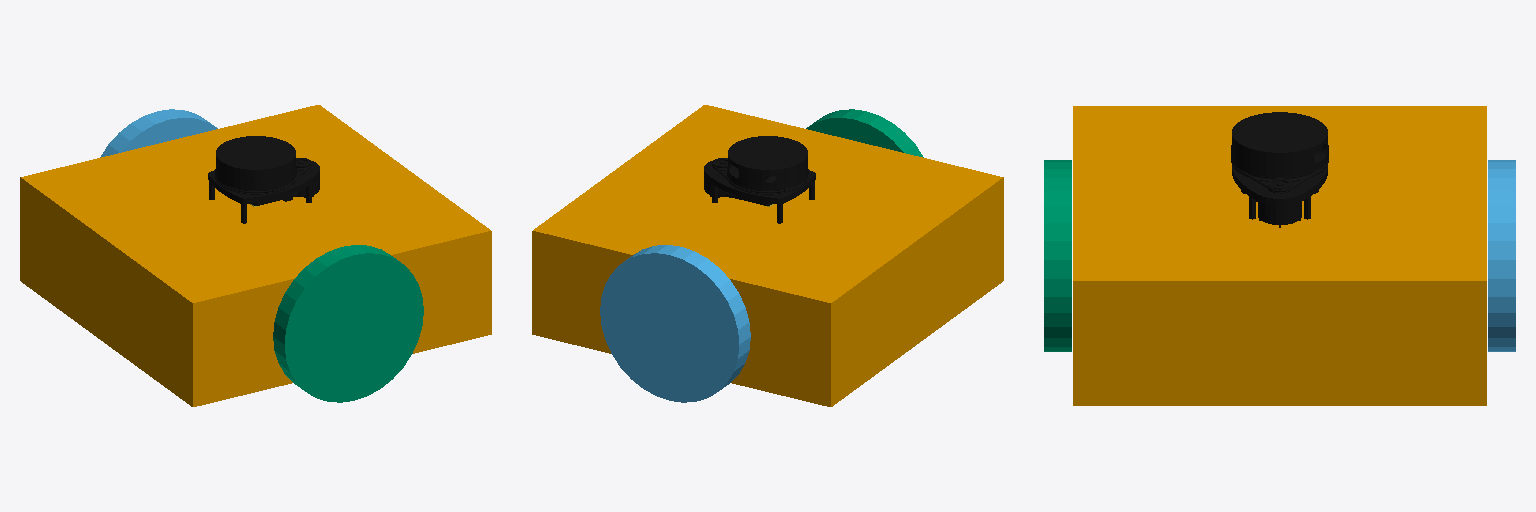
robot.urdf — mobile_robot:
<?xml version="1.0" ?>

<robot name="mobile_robot" xmlns:xacro="http://ros.org/wiki/xacro">
    
    <link name="base_link">
        
        <inertial>
            <origin xyz="0.0 0.0 0.0" rpy="0.0 0.0 0.0"/>
            <mass value="0.2"/>
            <inertia ixx="0.00167" ixy="0.0" ixz="0.0" iyy="0.00167" iyz="0.0" izz="0.003"/>
        </inertial>
        
        <visual>
            <origin xyz="0.0 0.0 0.0" rpy="0.0 0.0 0.0"/>
            <geometry>
                <box size="0.3 0.3 0.1"/>
            </geometry>
        </visual>
        
        <collision>
            <origin xyz="0.0 0.0 0.0" rpy="0.0 0.0 0.0"/>
            <geometry>
                <box size="0.3 0.3 0.1"/>
            </geometry>
        </collision>
        
    </link>

    <joint name="base_2_left_wheel" type="continuous">
        <origin xyz="0.0 0.161 0.0" rpy="0.0 0.0 0.0"/>
        <parent link="base_link"/>
        <child link="left_wheel"/>
        <axis xyz="0.0 1.0 0.0"/>
    </joint>
    
    <link name="left_wheel">
        
        <inertial>
            <origin xyz="0.0 0.0 0.0" rpy="1.5708 0.0 0.0"/>
            <mass value="0.01"/>
            <inertia ixx="0.00001258" ixy="0.0" ixz="0.0" iyy="0.00001258" iyz="0.0" izz="0.0000245"/>
        </inertial>
        
        <visual name="">
            <origin xyz="0.0 0.0 0.0" rpy="1.5708 0.0 0.0"/>
            <geometry>
                <cylinder radius="0.07" length="0.02"/> 
            </geometry>
        </visual>
        
        <collision>
            <origin xyz="0.0 0.0 0.0" rpy="1.5708 0.0 0.0"/>
            <geometry>
                <cylinder radius="0.07" length="0.02"/>
            </geometry>
        </collision>

    </link>

    <joint name="base_2_right_wheel" type="continuous">
        <origin xyz="0.0 -0.161 0.0" rpy="0.0 0.0 0.0"/>
        <parent link="base_link"/>
        <child link="right_wheel"/>
        <axis xyz="0.0 1.0 0.0"/>
    </joint>
    
    <link name="right_wheel">
        
        <inertial>
            <origin xyz="0.0 0.0 0.0" rpy="1.5708 0.0 0.0"/>
            <mass value="0.01"/>
            <inertia ixx="0.00001258" ixy="0.0" ixz="0.0" iyy="0.00001258" iyz="0.0" izz="0.0000245"/>
        </inertial>
        
        <visual name="">
            <origin xyz="0.0 0.0 0.0" rpy="1.5708 0.0 0.0"/>
            <geometry>
                <cylinder radius="0.07" length="0.02"/> 
            </geometry>
        </visual>
        
        <collision>
            <origin xyz="0.0 0.0 0.0" rpy="1.5708 0.0 0.0"/>
            <geometry>
                <cylinder radius="0.07" length="0.02"/>
            </geometry>
        </collision>

    </link>

<!-- Odomtery and differential -->

    <gazebo>
        <plugin name="differential_drive_controller" filename="libgazebo_ros_diff_drive.so">
            <updateRate>100</updateRate>
            <leftJoint>base_2_left_wheel</leftJoint>
            <rightJoint>base_2_right_wheel</rightJoint>
            <wheelSeparation>0.322</wheelSeparation>
            <wheelDiameter>0.14</wheelDiameter>
            <wheelAcceleration>1.0</wheelAcceleration>
            <wheelTorque>20</wheelTorque>
            <commandTopic>mobile_robot/cmd_vel</commandTopic>
            <odometryTopic>mobile_robot/odom</odometryTopic>
            <odometryFrame>odom</odometryFrame>
            <robotBaseFrame>base_link</robotBaseFrame>
            <odometrySource>1</odometrySource>
            <publishWheelTF>true</publishWheelTF>
            <publishOdom>true</publishOdom>
            <publishWheelJointState>true</publishWheelJointState>
            <legacyMode>false</legacyMode>
        </plugin>
    </gazebo>

<!-- IMU -->

    <link name="imu_link">
        
        <inertial>
            <mass value="0.0"/>
            <inertia ixx="0.0" ixy="0.0" ixz="0.0" iyy="0.0" iyz="0.0" izz="0.0"/>
        </inertial>
        
        <visual>
            <origin xyz="0.0 0.0 0.0" rpy="0.0 0.0 0.0"/>
            <geometry>
                <box size="0.01 0.01 0.01"/>
            </geometry>
        </visual>

        <collision>
            <origin xyz="0.0 0.0 0.0" rpy="0.0 0.0 0.0"/>
            <geometry>
                <box size="0.01 0.01 0.01"/>
            </geometry>
        </collision>

    </link>

    <joint name="base_link_2_imu" type="fixed">
        <origin xyz="0.0 0.0 0.05" rpy="0.0 0.0 0.0"/>
        <parent link="base_link"/>
        <child link="imu_link"/>
    </joint>

    <gazebo reference="imu_link">
        <gravity>true</gravity>
        <sensor name="imu_sensor" type="imu">
            <always_on>true</always_on>
            <update_rate>100</update_rate>
            <visualize>true</visualize>
            <topic>__default_topic__</topic>
            <plugin filename="libgazebo_ros_imu_sensor.so" name="imu_plugin">
                <topicName>mobile_robot/imu</topicName>
                <bodyName>imu_link</bodyName>
                <updateRateHZ>10.0</updateRateHZ>
                <gaussianNoise>0.0</gaussianNoise>
                <xyzOffset>0 0 0</xyzOffset>
                <rpyOffset>0 0 0</rpyOffset>
                <frameName>imu_link</frameName>
                <initialOrientationAsReference>false</initialOrientationAsReference>
            </plugin>
            <pose>0 0 0 0 0 0</pose>
        </sensor>
    </gazebo>

<!-- Laser scanner -->

    <link name="laser_scan_link">
        <inertial>
            <mass value="0.17"/>
            <inertia ixx="0.0001926" ixy="0.0" ixz="0.0" iyy="0.000122" iyz="0.0" izz="0.0002129"/>
        </inertial>
        <visual>
            <geometry>
                <mesh filename="package://robot_models_description/meshes/rplidar.dae"/>
            </geometry>
        </visual>
        <collision>
            <geometry>
                <box size="0.071 0.1 0.06"/>
            </geometry>
        </collision>
    </link>

    <joint name="base_link_2_laser_scan" type="fixed">
        <origin xyz="0.0 0.0 0.09" rpy="0.0 0.0 0.0"/>
        <parent link="base_link"/>
        <child link="laser_scan_link"/>
    </joint>

    <gazebo reference="laser_scan_link">
        <sensor type="ray" name="head_hokuyo_sensor">
            <update_rate>62</update_rate>
            <visualize>false</visualize>
            <ray>
                <scan>
                    <horizontal>
                        <samples>640</samples>
                        <resolution>1</resolution>
                        <min_angle>-3.1415926535897931</min_angle>
                        <max_angle>3.1415926535897931</max_angle>
                    </horizontal>
                </scan>
                <range>
                    <min>0.164</min>
                    <max>12</max>
                    <resolution>0.01</resolution>
                </range>
                <noise>
                    <type>gaussian</type>
                    <mean>0.0</mean>
                    <stddev>0.01</stddev>
                </noise>
            </ray>

            <plugin name="gazebo_ros_head_hokuyo_controller" filename="libgazebo_ros_laser.so">
                <topicName>/mobile_robot/lase_scan</topicName>
                <frameName>laser_scan_link</frameName>
                <min_range>0.164</min_range>
                <max_range>12</max_range>
                <gaussianNoise>0.008</gaussianNoise>
            </plugin>

        </sensor>
    </gazebo> 
    
<!-- Depth Camera -->
    <link name="camera_oakd_link">
        <inertial>
            <mass value="0.061"/>
            <inertia ixx="0.00000202475" ixy="0.0" ixz="0.0"
	             iyy="0.00001527320" iyz="0.0" izz="0.00001605536"/>
        </inertial>
        <visual>
            <geometry>
                <mesh filename="package://robot_models_description/meshes/oak_d_camera.dae"/>
            </geometry>
        </visual>
        <collision>
            <geometry>
                <box size="0.0225 0.097 0.03"/>
            </geometry>
        </collision>
    </link>

    <joint name="base_link_2_camera" type="fixed">
        <origin xyz="0.0 0.0 0.15" rpy="0.0 0.0 0.0"/>
        <parent link="base_link"/>
        <child link="camera_oakd_link"/>
    </joint>

    <gazebo reference="camera_oakd_link">
        <sensor name="depth_kinect_camera" type="depth">
            <update_rate>20</update_rate>
            <camera>
                <horizontal_fov>1.047198</horizontal_fov>
                <image>
                    <width>640</width>
                    <height>480</height>
                    <format>R8G8B8</format>
                </image>
                <clip>
                    <near>0.05</near>
                    <far>3</far>
                </clip>
            </camera>

            <plugin name="depth_camera_controller" filename="libgazebo_ros_openni_kinect.so">
                <baseline>0.2</baseline>
                <alwaysOn>true</alwaysOn>
                <updateRate>1.0</updateRate>
                <cameraName>depth_kinect_camera</cameraName>
                <imageTopicName>/mobile_robot/color/image_raw</imageTopicName>
                <cameraInfoTopicName>/mobile_robot/color/camera_info</cameraInfoTopicName>
                <depthImageTopicName>/mobile_robot/depth/image_raw</depthImageTopicName>
                <depthImageInfoTopicName>/mobile_robot/depth/camera_info</depthImageInfoTopicName>
                <pointCloudTopicName>/mobile_robot/depth/points</pointCloudTopicName>
                <frameName>camera_oakd_link</frameName>
                <pointCloudCutoff>0.5</pointCloudCutoff>
                <pointCloudCutoffMax>3.0</pointCloudCutoffMax>
                <distortionK1>0.00000001</distortionK1>
                <distortionK2>0.00000001</distortionK2>
                <distortionK3>0.00000001</distortionK3>
                <distortionT1>0.00000001</distortionT1>
                <distortionT2>0.00000001</distortionT2>
                <CxPrime>0</CxPrime>
                <Cx>0</Cx>
                <Cy>0</Cy>
                <focalLength>0</focalLength>
                <hackBaseline>0</hackBaseline>
            </plugin>
        </sensor>
    </gazebo>


</robot>

--- Facts derived from the render (not from the file) ---
Views: 3 orthographic renders of the robot side by side, from view 1: azimuth 30°, elevation 25°; view 2: azimuth 150°, elevation 25°; view 3: azimuth 270°, elevation 25°.
Robot: mobile_robot — 6 links, 5 joints (2 continuous, 3 fixed); root link base_link; default pose: every joint at zero.
Links seen in each view (by area): view 1: base_link, right_wheel, laser_scan_link, left_wheel; view 2: base_link, left_wheel, laser_scan_link, right_wheel; view 3: base_link, laser_scan_link, left_wheel, right_wheel.
Boxes of the visible links, x1=… form: base_link: x1=20, y1=105, x2=491, y2=406; right_wheel: x1=273, y1=245, x2=423, y2=402; laser_scan_link: x1=208, y1=136, x2=319, y2=223; left_wheel: x1=100, y1=109, x2=217, y2=157; base_link: x1=532, y1=105, x2=1003, y2=406; left_wheel: x1=600, y1=245, x2=750, y2=402; laser_scan_link: x1=704, y1=136, x2=815, y2=223; right_wheel: x1=806, y1=109, x2=923, y2=157; base_link: x1=1073, y1=106, x2=1486, y2=405; laser_scan_link: x1=1231, y1=112, x2=1328, y2=227; left_wheel: x1=1488, y1=160, x2=1515, y2=351; right_wheel: x1=1044, y1=160, x2=1071, y2=351.
Bounding box of the posed robot: 0.3 × 0.342 × 0.1689 m (x, y, z).
Meshes: 2 distinct files referenced, 1 mesh visuals loaded (1 Collada DAE); not drawn: 1 (reference not matched to a file when rendering).
